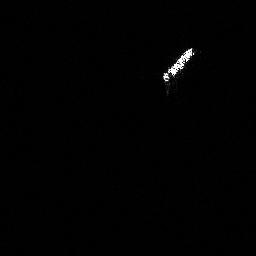ship: (161, 45, 202, 98)
